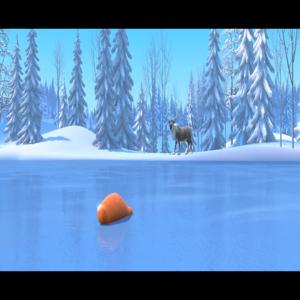carrot: (91, 182, 131, 228)
sven: (163, 110, 200, 161)
